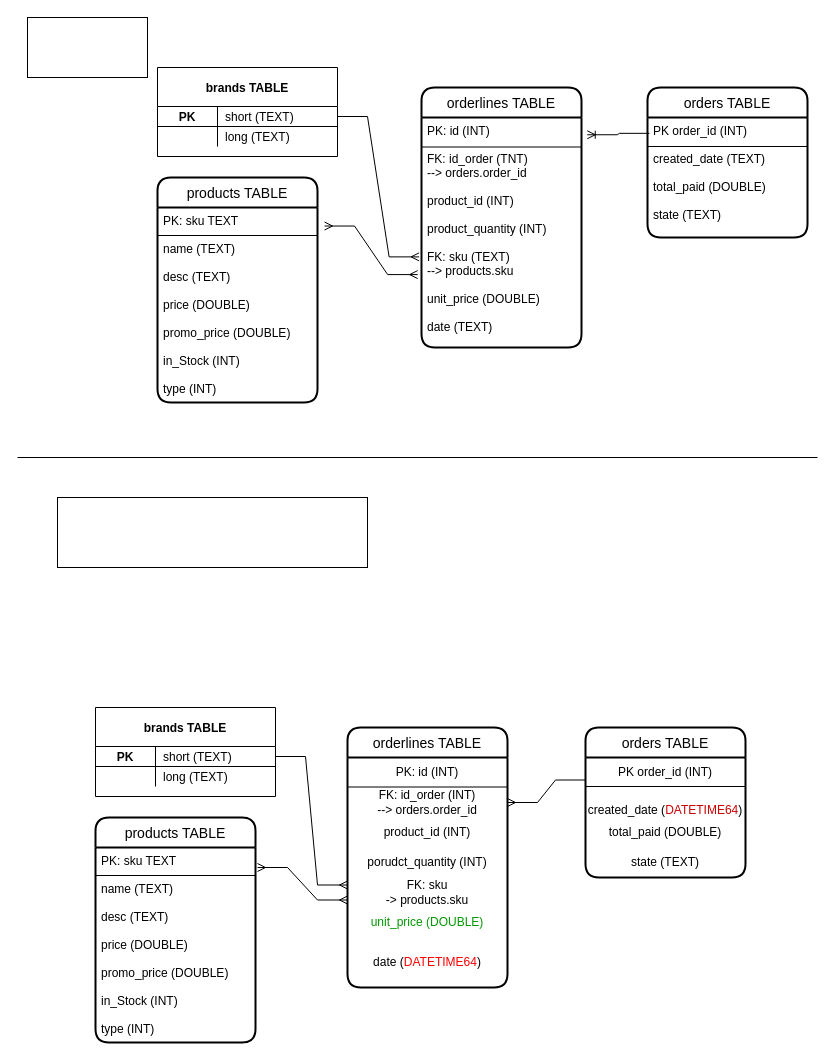
The diagram is 836 pixels wide and 1061 high, and some of its shapes have lost their labels. The shapes that lost their labels are listed below. From the top down, each one's box as (x1, y1, x2, y2) in pixels, then its label:
(26, 16, 148, 78): First Generation TABLES
(56, 496, 368, 568): DATA CLEANING PROCESS TYPE CHANGE - RED CORRUPTED DATA DROPPED - GREEN
